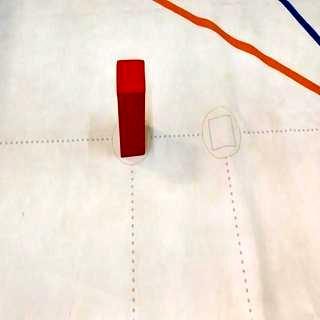redbox: (115, 58, 146, 156)
